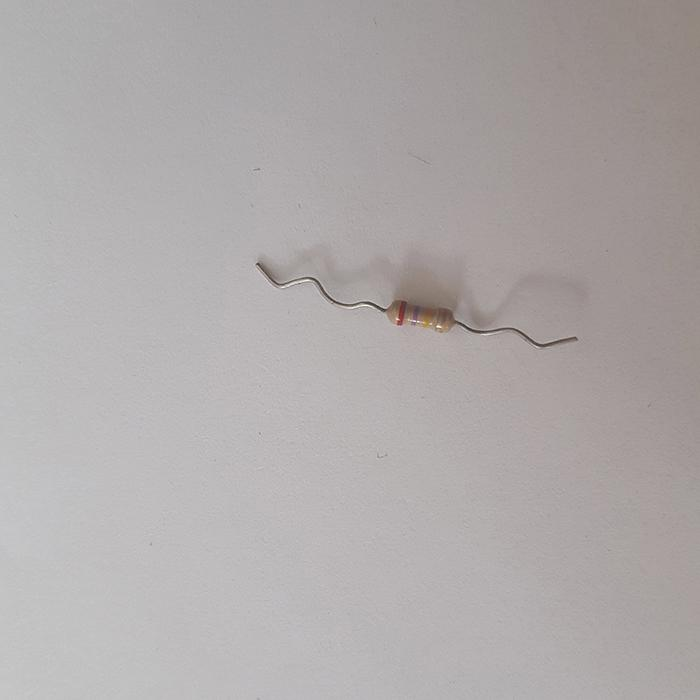resistor: (385, 299, 454, 332)
